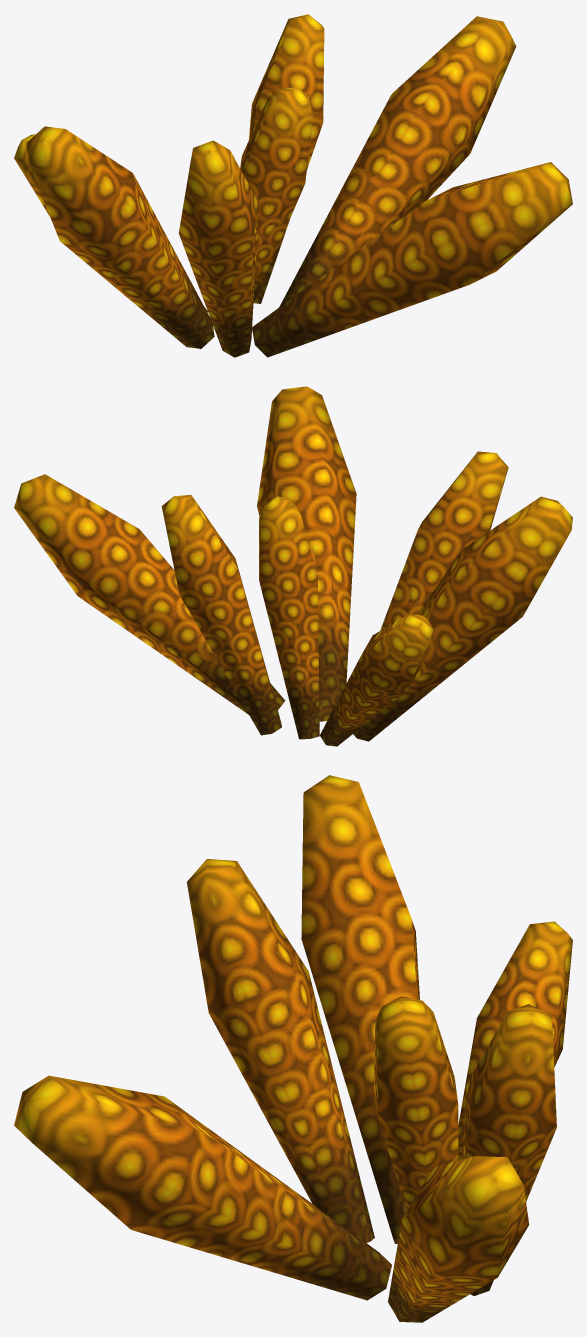
The model's file is Coral_05b.FBX.
The picture shows the model from 3 angles, top to bottom: view 1: azimuth 30°, elevation 25°; view 2: azimuth 150°, elevation 25°; view 3: azimuth 270°, elevation 25°; orthographic projection. The views are drawn at different scales.
Visible parts, largest first — view 1: Coral_05b; view 2: Coral_05b; view 3: Coral_05b.
Part boxes in pixels (<box>): Coral_05b: <box>14,14,572,357</box>; Coral_05b: <box>14,386,572,746</box>; Coral_05b: <box>14,775,572,1322</box>.
Bounding box in the file's own units: 22.14 × 11.29 × 15.3.
